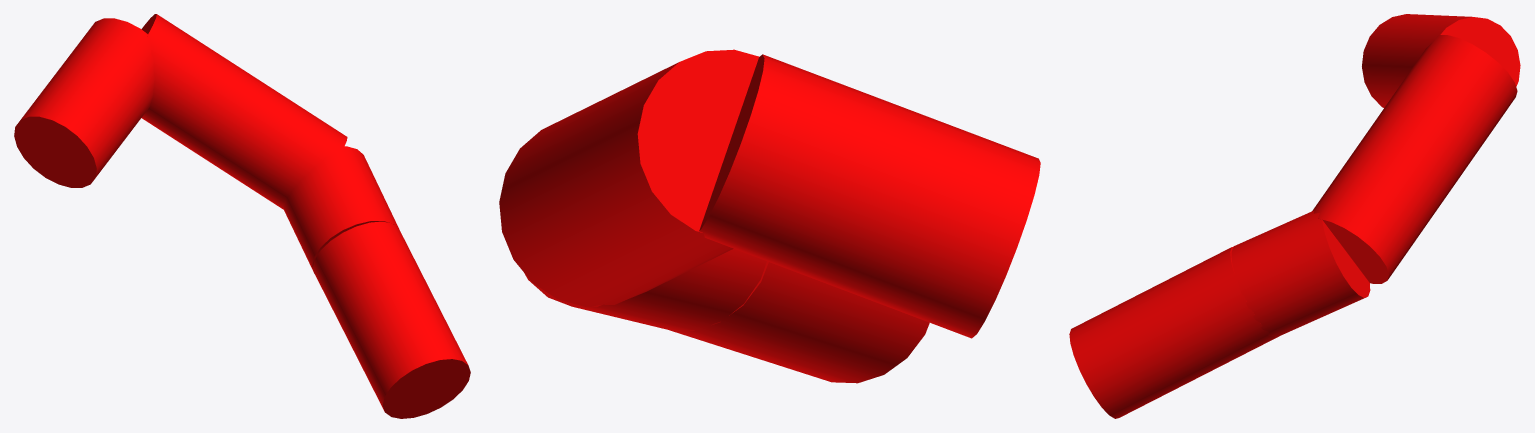
3 views of the same model, side by side, from view 1: azimuth 30°, elevation 25°; view 2: azimuth 150°, elevation 25°; view 3: azimuth 270°, elevation 25° (orthographic). The views are drawn at different scales.
Parts seen in each view (by area): view 1: Cylinder(Clone) (×4); view 2: Cylinder(Clone) (×4); view 3: Cylinder(Clone) (×4).
Boxes of the visible parts, bbox=[...] form: Cylinder(Clone) (×4): bbox=[14, 14, 470, 418]; Cylinder(Clone) (×4): bbox=[499, 49, 1040, 383]; Cylinder(Clone) (×4): bbox=[1069, 14, 1520, 418].
Bounding box in the file's own units: 0.0362 × 0.0356 × 0.0444.
